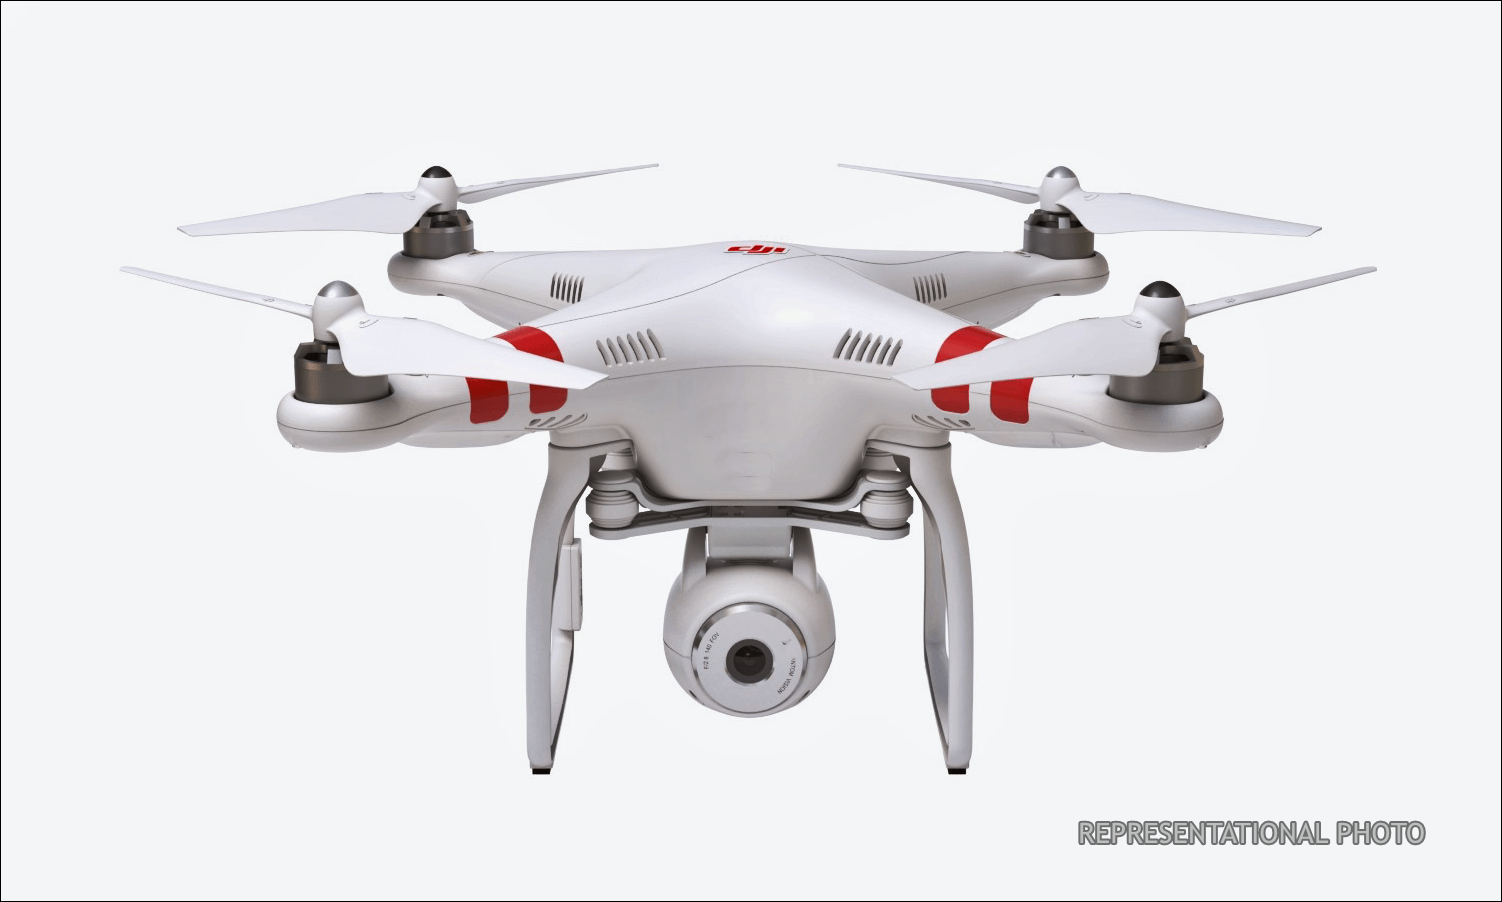drone: (102, 136, 1387, 789)
